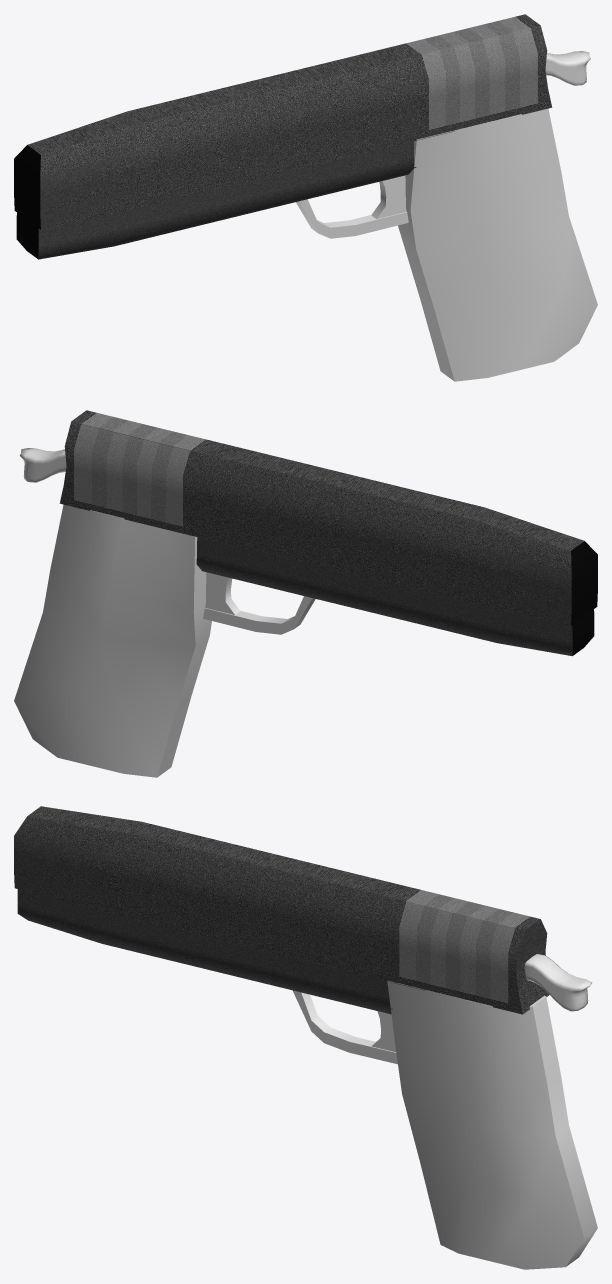
Rendered from Pistol@Shoot.FBX.
The picture shows the model from 3 angles, top to bottom: view 1: azimuth 30°, elevation 25°; view 2: azimuth 150°, elevation 25°; view 3: azimuth 330°, elevation 25°; orthographic projection.
Visible parts, largest first — view 1: TopGun, Handle, BottomGun, TriggerOutline, Box005, Trigger; view 2: TopGun, Handle, BottomGun, TriggerOutline, Box005, Trigger; view 3: TopGun, Handle, BottomGun, Box005, TriggerOutline.
Boxes of the visible parts, x1,y1,x2,y2 form: TopGun: (14, 14, 552, 229); Handle: (398, 108, 597, 381); BottomGun: (16, 141, 416, 259); TriggerOutline: (296, 199, 408, 238); Box005: (545, 51, 590, 85); Trigger: (371, 175, 406, 218); TopGun: (59, 410, 597, 625); Handle: (14, 504, 211, 777); BottomGun: (196, 537, 594, 656); TriggerOutline: (203, 596, 315, 634); Box005: (19, 448, 66, 482); Trigger: (205, 572, 240, 614); TopGun: (14, 806, 549, 1014); Handle: (387, 980, 597, 1269); BottomGun: (17, 889, 392, 1014); Box005: (524, 954, 592, 1011); TriggerOutline: (292, 990, 397, 1064).
Bounding box in the file's own units: 103 × 58.34 × 9.34.
